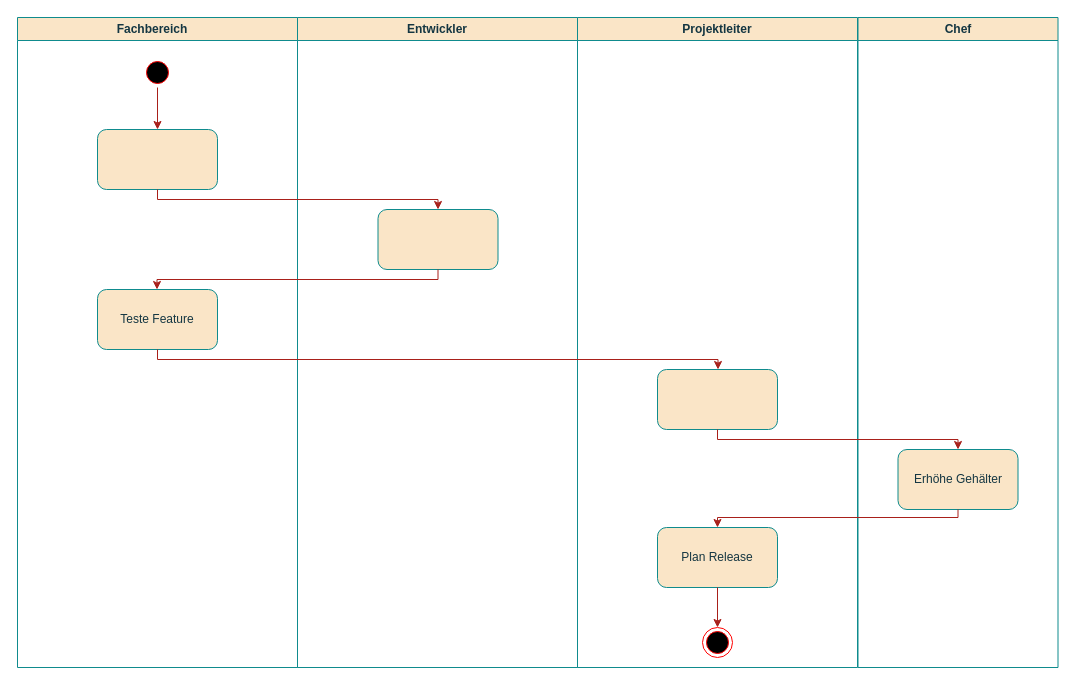
The diagram is 1076 pixels wide and 685 high, and some of its shapes have lost their labels. The centre of each missing label's shape, as x and y in pixels:
Definiere Anforderung: (x=157, y=159)
Programmire Feature: (x=437, y=239)
Präsentiere Feature: (x=717, y=399)
